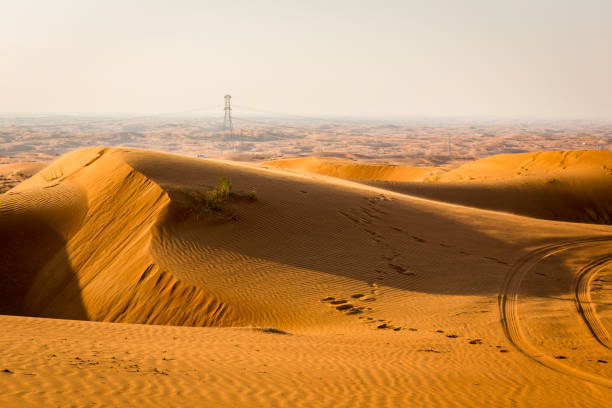vehicle_track: (498, 236, 611, 388), (574, 255, 612, 350)
